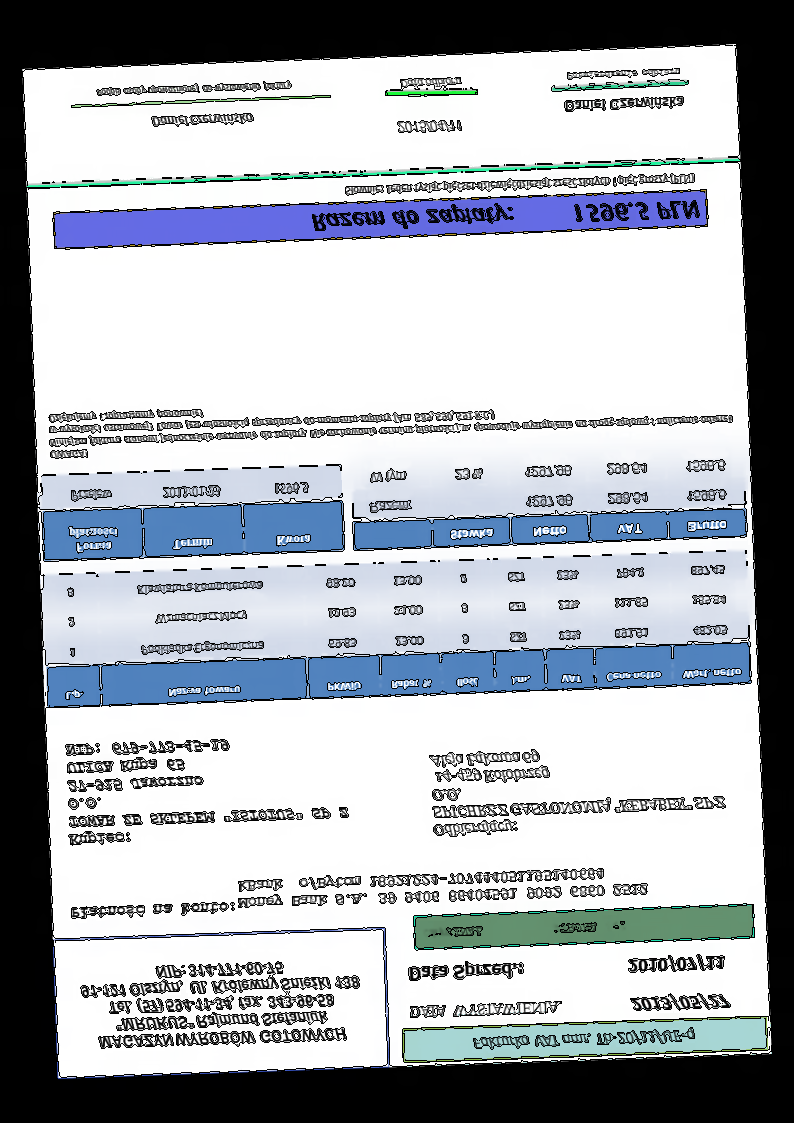Table: (41, 545, 756, 710), (350, 442, 748, 554), (40, 463, 346, 564)
TextBox: (43, 384, 736, 463), (62, 732, 353, 847), (427, 740, 729, 840), (75, 953, 368, 1052), (236, 865, 650, 912), (305, 195, 703, 237), (341, 171, 697, 200), (468, 1024, 698, 1053), (421, 918, 630, 944), (93, 77, 294, 100), (406, 996, 565, 1024), (66, 899, 239, 923), (406, 959, 526, 985), (561, 92, 686, 115), (624, 951, 728, 976), (624, 991, 732, 1015), (562, 67, 684, 83), (148, 112, 255, 130), (393, 118, 463, 136), (397, 76, 464, 90)
